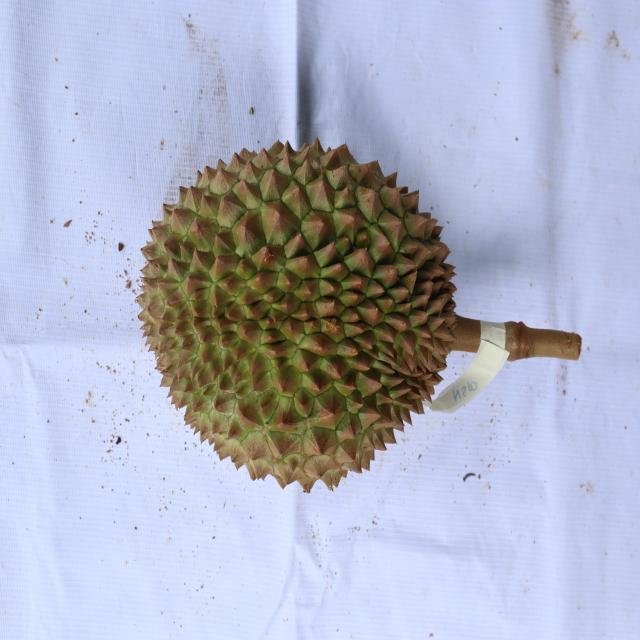mature: (135, 138, 456, 497)
